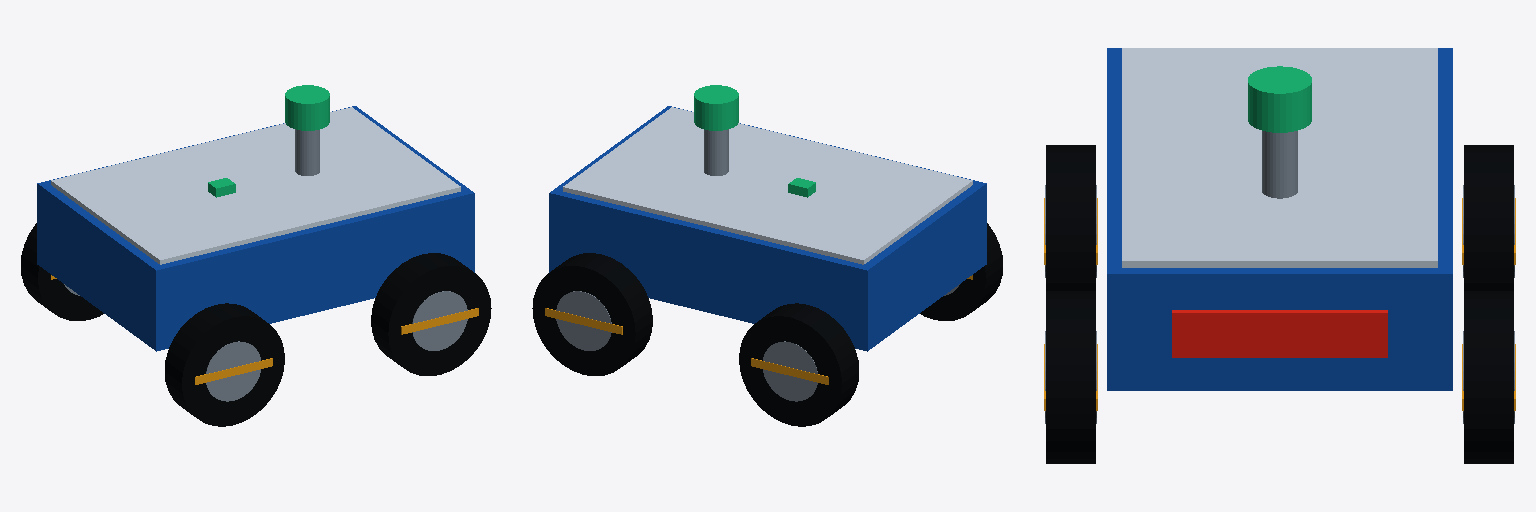
robot.urdf — wheel_car_4w:
<?xml version="1.0"?>
<!--
  四轮小车，单位：米、弧度、千克；坐标：x 前、y 左、z 上。
  车体 0.74 × 0.48 × 0.18 m；轮半径 0.12 m，轮宽 0.07 m；
  左右轮中心距 0.58 m，前后轮中心距 0.48 m。
  base_link/base_footprint 均在车体中心的地面投影，车体几何自身上移。
  后轮为左右两侧的独立驱动关节，前轮 mimic 同侧后轮。
  整体使用同侧等速的差速运动学，不模拟四个独立电机或轮胎滑移力。
  雷达与 IMU 在仿真 YAML 中启用，URDF 这里只声明安装位置和外观。
-->
<robot name="wheel_car_4w" version="1.0">
  <material name="body_blue"><color rgba="0.10 0.36 0.70 1"/></material>
  <material name="deck_light"><color rgba="0.80 0.85 0.90 1"/></material>
  <material name="rubber"><color rgba="0.06 0.07 0.08 1"/></material>
  <material name="hub"><color rgba="0.52 0.57 0.62 1"/></material>
  <material name="spoke"><color rgba="0.95 0.65 0.12 1"/></material>
  <material name="sensor_green"><color rgba="0.12 0.75 0.48 1"/></material>
  <material name="front_red"><color rgba="0.92 0.18 0.12 1"/></material>

  <!-- 无惯性的纯坐标 root，避免 KDL 对根 link 惯性的警告。 -->
  <link name="base_footprint"/>
  <joint name="base_footprint_joint" type="fixed">
    <parent link="base_footprint"/>
    <child link="base_link"/>
    <origin xyz="0 0 0" rpy="0 0 0"/>
  </joint>

  <link name="base_link">
    <inertial>
      <origin xyz="0 0 0.25"/>
      <mass value="12"/>
      <inertia ixx="0.2628" ixy="0" ixz="0" iyy="0.58" iyz="0" izz="0.778"/>
    </inertial>
    <visual>
      <origin xyz="0 0 0.25"/>
      <geometry><box size="0.74 0.48 0.18"/></geometry>
      <material name="body_blue"/>
    </visual>
    <collision>
      <origin xyz="0 0 0.25"/>
      <geometry><box size="0.74 0.48 0.18"/></geometry>
    </collision>
    <!-- 顶板和车头标记都是同一 link 的 visual，不额外增加碰撞体。 -->
    <visual>
      <origin xyz="0 0 0.345"/>
      <geometry><box size="0.70 0.44 0.01"/></geometry>
      <material name="deck_light"/>
    </visual>
    <visual>
      <origin xyz="0.375 0 0.25"/>
      <geometry><box size="0.01 0.30 0.07"/></geometry>
      <material name="front_red"/>
    </visual>
  </link>

  <!-- 所有轮关节轴为底盘 +y；圆柱本地 z 轴经 -π/2 绕 x 旋转后对齐 +y。
       碰撞圆柱必须居中、共轴。轮毂/色条只改变 visual，便于观察转动。 -->
  <link name="rear_left_wheel_link">
    <inertial>
      <mass value="0.8"/>
      <inertia ixx="0.003207" ixy="0" ixz="0" iyy="0.00576" iyz="0" izz="0.003207"/>
    </inertial>
    <visual>
      <origin rpy="-1.5707963267948966 0 0"/>
      <geometry><cylinder radius="0.12" length="0.07"/></geometry>
      <material name="rubber"/>
    </visual>
    <visual>
      <origin rpy="-1.5707963267948966 0 0"/>
      <geometry><cylinder radius="0.065" length="0.072"/></geometry>
      <material name="hub"/>
    </visual>
    <visual>
      <geometry><box size="0.18 0.074 0.018"/></geometry>
      <material name="spoke"/>
    </visual>
    <collision>
      <origin rpy="-1.5707963267948966 0 0"/>
      <geometry><cylinder radius="0.12" length="0.07"/></geometry>
    </collision>
  </link>
  <joint name="rear_left_wheel_joint" type="continuous">
    <parent link="base_link"/><child link="rear_left_wheel_link"/>
    <origin xyz="-0.24 0.29 0.12"/>
    <axis xyz="0 1 0"/>
    <limit effort="20" velocity="30"/>
  </joint>

  <link name="rear_right_wheel_link">
    <inertial>
      <mass value="0.8"/>
      <inertia ixx="0.003207" ixy="0" ixz="0" iyy="0.00576" iyz="0" izz="0.003207"/>
    </inertial>
    <visual>
      <origin rpy="-1.5707963267948966 0 0"/>
      <geometry><cylinder radius="0.12" length="0.07"/></geometry>
      <material name="rubber"/>
    </visual>
    <visual>
      <origin rpy="-1.5707963267948966 0 0"/>
      <geometry><cylinder radius="0.065" length="0.072"/></geometry>
      <material name="hub"/>
    </visual>
    <visual>
      <geometry><box size="0.18 0.074 0.018"/></geometry>
      <material name="spoke"/>
    </visual>
    <collision>
      <origin rpy="-1.5707963267948966 0 0"/>
      <geometry><cylinder radius="0.12" length="0.07"/></geometry>
    </collision>
  </link>
  <joint name="rear_right_wheel_joint" type="continuous">
    <parent link="base_link"/><child link="rear_right_wheel_link"/>
    <origin xyz="-0.24 -0.29 0.12"/>
    <axis xyz="0 1 0"/>
    <limit effort="20" velocity="30"/>
  </joint>

  <!-- 前轮直接挂在 base_link 上，不能作为后轮 link 的子节点。
       mimic 同步同侧转角/角速度，不建立第二套控制输入。 -->
  <link name="front_left_wheel_link">
    <inertial>
      <mass value="0.8"/>
      <inertia ixx="0.003207" ixy="0" ixz="0" iyy="0.00576" iyz="0" izz="0.003207"/>
    </inertial>
    <visual>
      <origin rpy="-1.5707963267948966 0 0"/>
      <geometry><cylinder radius="0.12" length="0.07"/></geometry>
      <material name="rubber"/>
    </visual>
    <visual>
      <origin rpy="-1.5707963267948966 0 0"/>
      <geometry><cylinder radius="0.065" length="0.072"/></geometry>
      <material name="hub"/>
    </visual>
    <visual>
      <geometry><box size="0.18 0.074 0.018"/></geometry>
      <material name="spoke"/>
    </visual>
    <collision>
      <origin rpy="-1.5707963267948966 0 0"/>
      <geometry><cylinder radius="0.12" length="0.07"/></geometry>
    </collision>
  </link>
  <joint name="front_left_wheel_joint" type="continuous">
    <parent link="base_link"/><child link="front_left_wheel_link"/>
    <origin xyz="0.24 0.29 0.12"/>
    <axis xyz="0 1 0"/>
    <limit effort="20" velocity="30"/>
    <mimic joint="rear_left_wheel_joint" multiplier="1.0" offset="0.0"/>
  </joint>

  <link name="front_right_wheel_link">
    <inertial>
      <mass value="0.8"/>
      <inertia ixx="0.003207" ixy="0" ixz="0" iyy="0.00576" iyz="0" izz="0.003207"/>
    </inertial>
    <visual>
      <origin rpy="-1.5707963267948966 0 0"/>
      <geometry><cylinder radius="0.12" length="0.07"/></geometry>
      <material name="rubber"/>
    </visual>
    <visual>
      <origin rpy="-1.5707963267948966 0 0"/>
      <geometry><cylinder radius="0.065" length="0.072"/></geometry>
      <material name="hub"/>
    </visual>
    <visual>
      <geometry><box size="0.18 0.074 0.018"/></geometry>
      <material name="spoke"/>
    </visual>
    <collision>
      <origin rpy="-1.5707963267948966 0 0"/>
      <geometry><cylinder radius="0.12" length="0.07"/></geometry>
    </collision>
  </link>
  <joint name="front_right_wheel_joint" type="continuous">
    <parent link="base_link"/><child link="front_right_wheel_link"/>
    <origin xyz="0.24 -0.29 0.12"/>
    <axis xyz="0 1 0"/>
    <limit effort="20" velocity="30"/>
    <mimic joint="rear_right_wheel_joint" multiplier="1.0" offset="0.0"/>
  </joint>

  <link name="lidar_mount_link">
    <visual><geometry><cylinder radius="0.025" length="0.11"/></geometry><material name="hub"/></visual>
    <collision><geometry><cylinder radius="0.025" length="0.11"/></geometry></collision>
  </link>
  <joint name="lidar_mount_joint" type="fixed">
    <parent link="base_link"/><child link="lidar_mount_link"/>
    <origin xyz="0.12 0 0.405"/>
  </joint>
  <link name="lidar_link">
    <visual><geometry><cylinder radius="0.045" length="0.06"/></geometry><material name="sensor_green"/></visual>
    <collision><geometry><cylinder radius="0.045" length="0.06"/></geometry></collision>
  </link>
  <joint name="lidar_joint" type="fixed">
    <parent link="lidar_mount_link"/><child link="lidar_link"/>
    <!-- 最终雷达中心相对 base_link 为 [0.12, 0, 0.49] m。 -->
    <origin xyz="0 0 0.085" rpy="0 0 0"/>
  </joint>

  <link name="imu_link">
    <visual><geometry><box size="0.045 0.035 0.02"/></geometry><material name="sensor_green"/></visual>
    <collision><geometry><box size="0.045 0.035 0.02"/></geometry></collision>
  </link>
  <joint name="imu_joint" type="fixed">
    <parent link="base_link"/><child link="imu_link"/>
    <origin xyz="-0.08 0 0.36" rpy="0 0 0"/>
  </joint>
</robot>

--- Render facts (derived) ---
Views: 3 orthographic renders of the robot side by side, from view 1: azimuth 30°, elevation 25°; view 2: azimuth 150°, elevation 25°; view 3: azimuth 270°, elevation 25°.
Model wheel_car_4w with 9 links and 8 joints (4 continuous, 4 fixed), rooted at base_footprint, posed all joints at 0.
Links seen in each view (by area): view 1: base_link, front_right_wheel_link, rear_right_wheel_link, rear_left_wheel_link, lidar_link, lidar_mount_link; view 2: base_link, front_left_wheel_link, rear_left_wheel_link, rear_right_wheel_link, lidar_link, lidar_mount_link; view 3: base_link, front_left_wheel_link, front_right_wheel_link, rear_left_wheel_link, rear_right_wheel_link, lidar_link, lidar_mount_link.
Boxes of the visible links, x1=… form: base_link: x1=37, y1=106, x2=474, y2=351; front_right_wheel_link: x1=371, y1=253, x2=491, y2=375; rear_right_wheel_link: x1=165, y1=303, x2=284, y2=426; rear_left_wheel_link: x1=21, y1=223, x2=103, y2=320; lidar_link: x1=285, y1=85, x2=329, y2=130; lidar_mount_link: x1=295, y1=129, x2=319, y2=175; base_link: x1=549, y1=106, x2=986, y2=351; front_left_wheel_link: x1=532, y1=253, x2=652, y2=375; rear_left_wheel_link: x1=739, y1=303, x2=858, y2=426; rear_right_wheel_link: x1=920, y1=223, x2=1002, y2=320; lidar_link: x1=694, y1=85, x2=738, y2=130; lidar_mount_link: x1=704, y1=129, x2=728, y2=175; base_link: x1=1107, y1=48, x2=1452, y2=390; front_left_wheel_link: x1=1462, y1=291, x2=1515, y2=463; front_right_wheel_link: x1=1044, y1=291, x2=1097, y2=463; rear_left_wheel_link: x1=1462, y1=145, x2=1515, y2=290; rear_right_wheel_link: x1=1044, y1=145, x2=1097, y2=290; lidar_link: x1=1248, y1=66, x2=1311, y2=132; lidar_mount_link: x1=1262, y1=131, x2=1297, y2=198.
Size in the robot's own frame: 0.75 by 0.654 by 0.52 metres.
Geometry: primitives only (box / cylinder / sphere), no mesh files.
